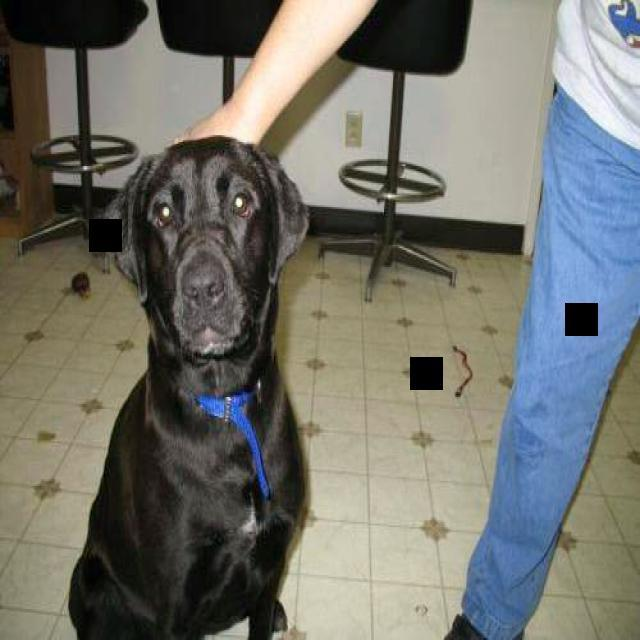adult_dog: (66, 134, 312, 640)
